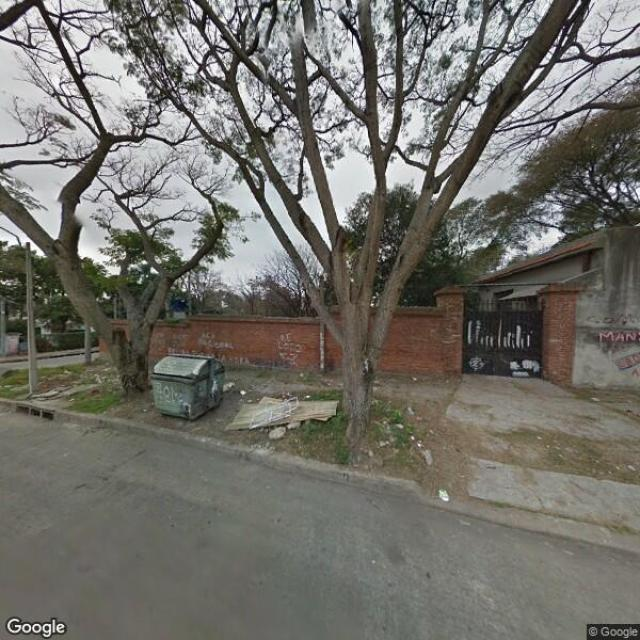garbage container: (143, 345, 237, 426)
